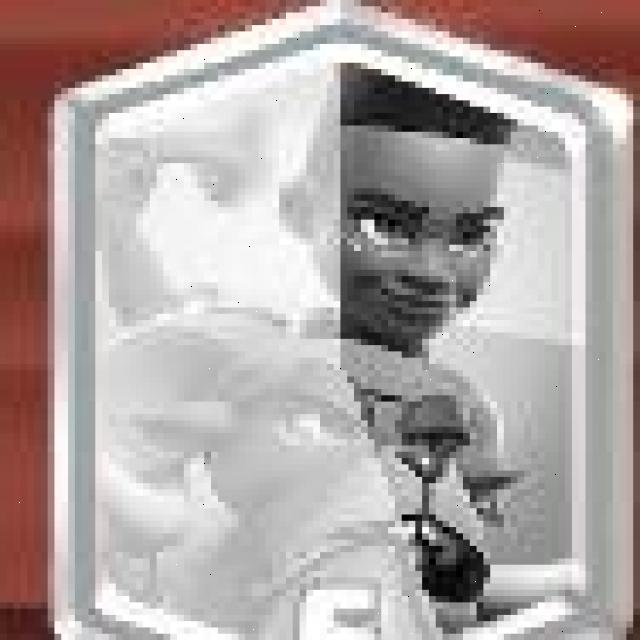Ram_Rider: (52, 3, 630, 640)
